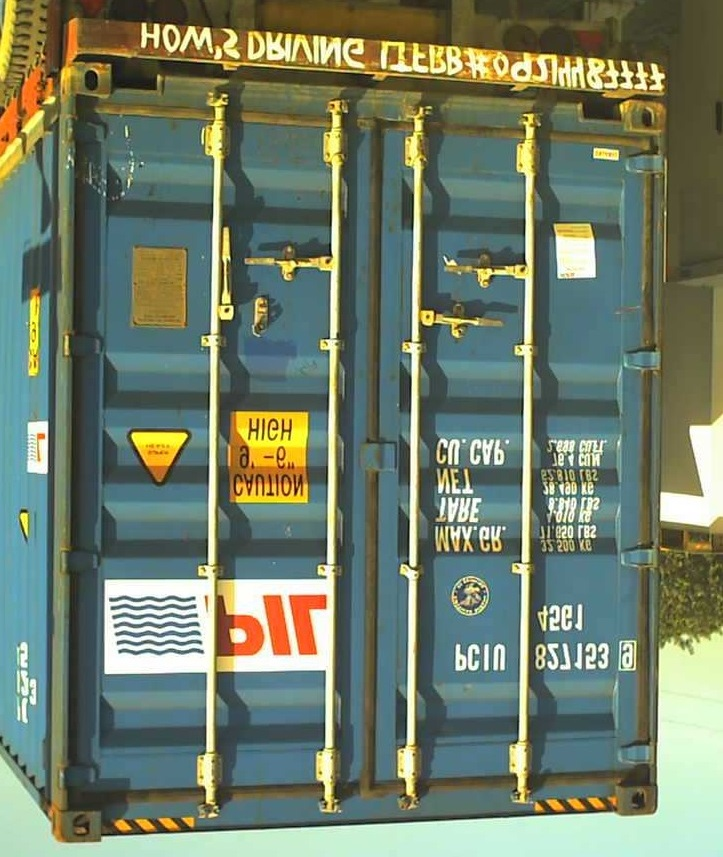container_door: (39, 6, 660, 843)
